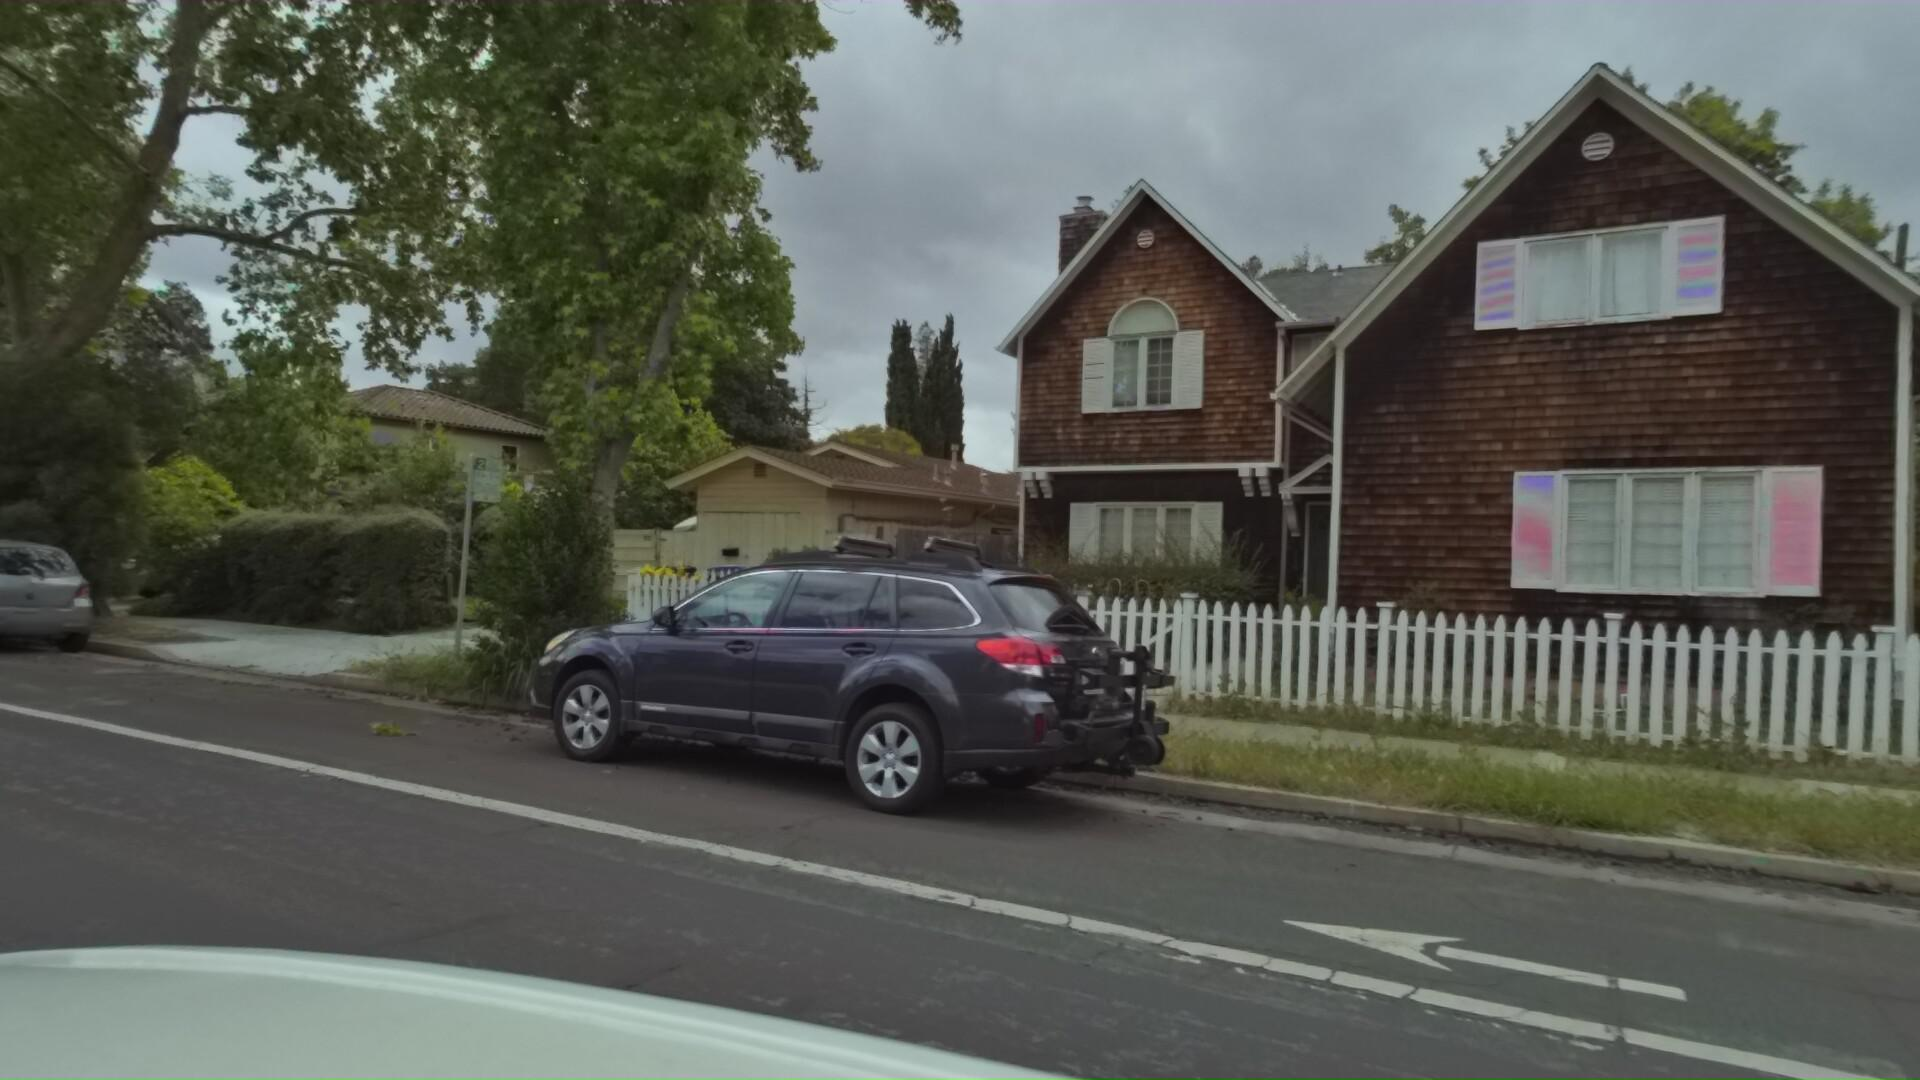car: (440, 512, 1160, 870), (94, 527, 324, 604), (0, 529, 107, 666), (1904, 579, 1920, 654)
